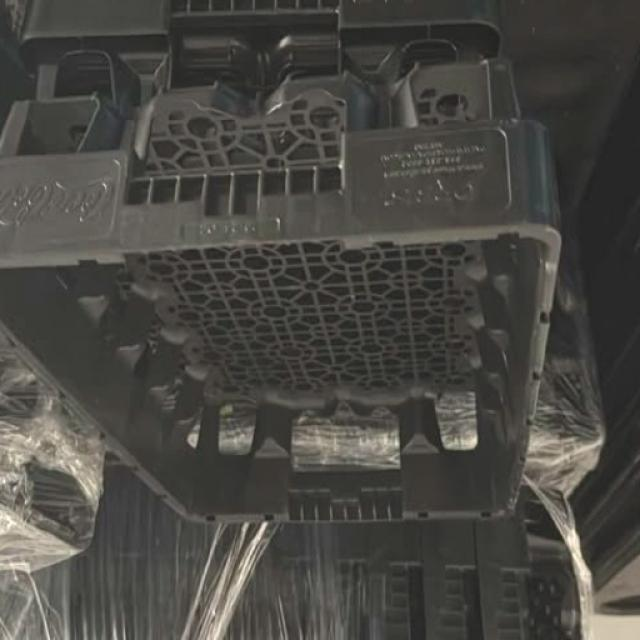non-igps: (0, 54, 566, 532), (0, 0, 506, 112)
